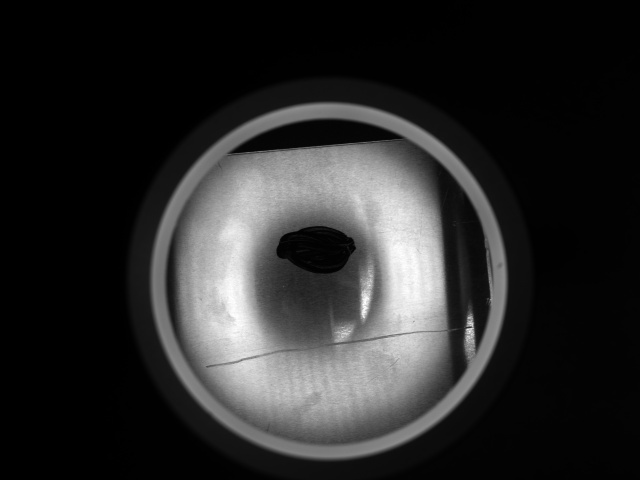ca_shang: (203, 324, 473, 368)
zang_wu: (275, 224, 360, 277)
